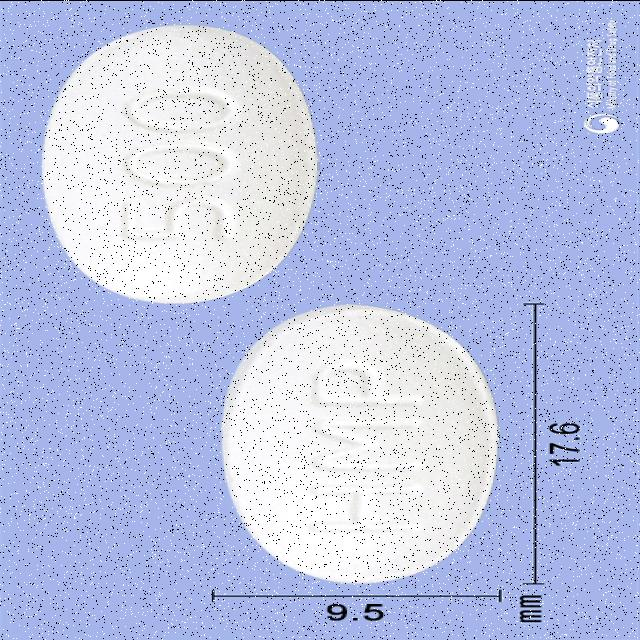Amoclan Duo Tab- Myungmoon: (218, 300, 504, 586), (41, 24, 321, 304)
